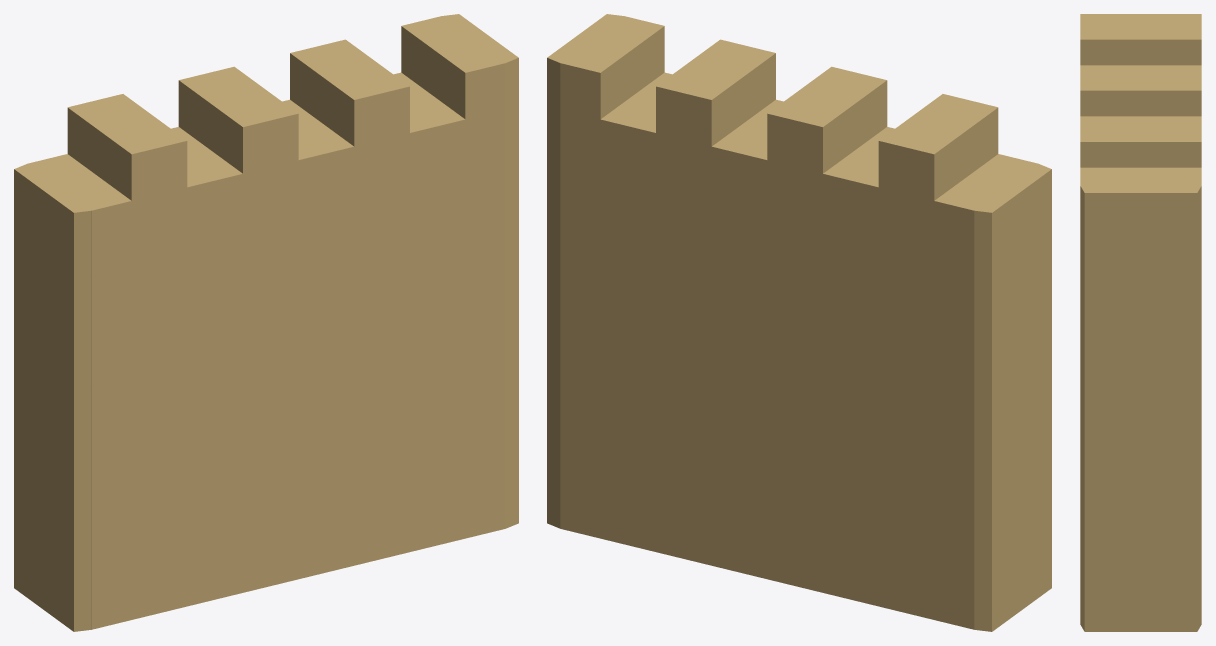
The model's file is wall3.fbx.
3 renders of one model, left to right at view 1: azimuth 30°, elevation 25°; view 2: azimuth 150°, elevation 25°; view 3: azimuth 270°, elevation 25°, orthographic. The views are drawn at different scales.
Visible parts, largest first — view 1: Cube.513; view 2: Cube.513; view 3: Cube.513.
Boxes of the visible parts, x1=… form: Cube.513: x1=14, y1=14, x2=518, y2=631; Cube.513: x1=547, y1=14, x2=1051, y2=631; Cube.513: x1=1080, y1=14, x2=1201, y2=631.
Size of the model in its own units: 50 by 200 by 200.
